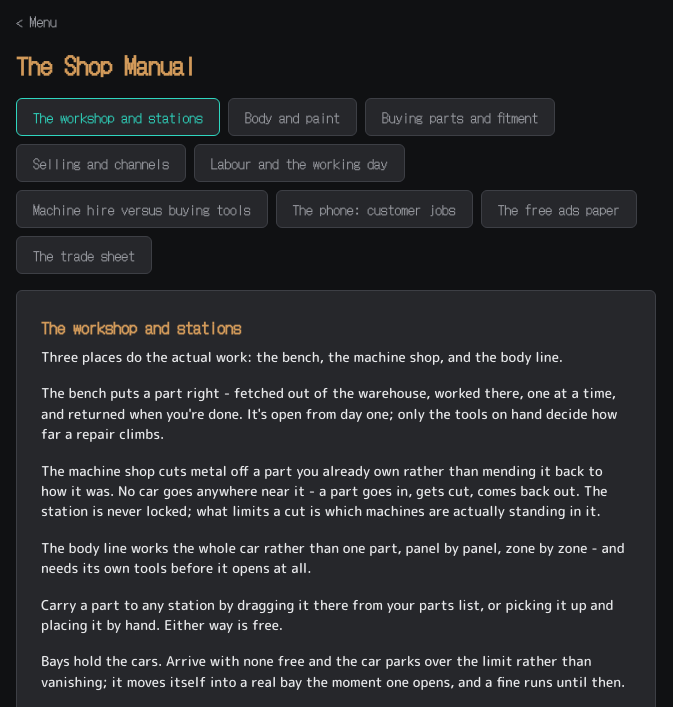
Test case: CompendiumScreen › selecting another entry swaps the shown body and marks the button active
Click the button with test id "compendium-entry-selling" at (101, 163), box x1=16 y1=144 x2=186 y2=182
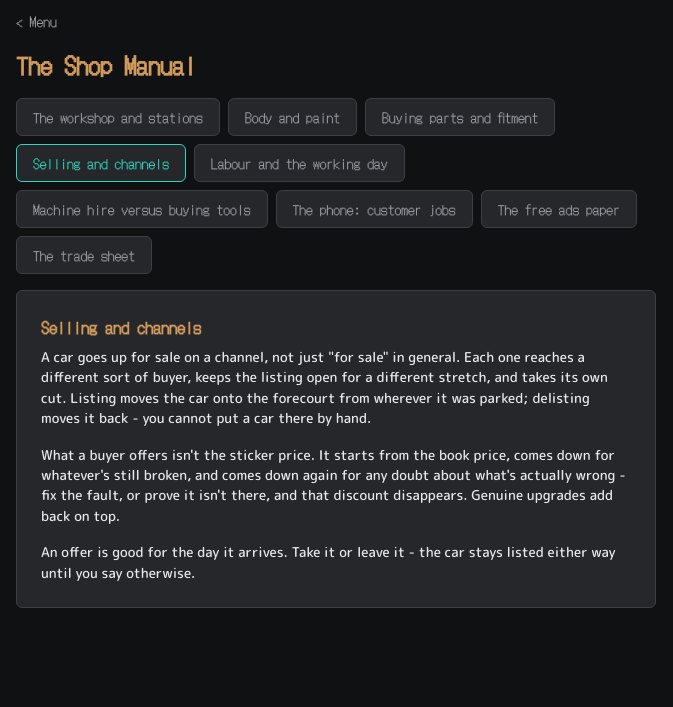
Check: the element with test id "compendium-entry-body" shows "Selling and channels", box x1=41 y1=315 x2=201 y2=339
Check: the text with test id "compendium-entry-body" no longer shows "bench, the machine shop, and the body line"
